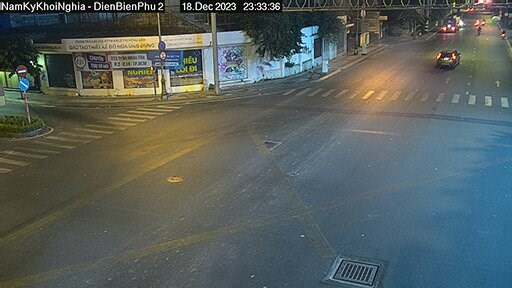car: (431, 45, 463, 71)
